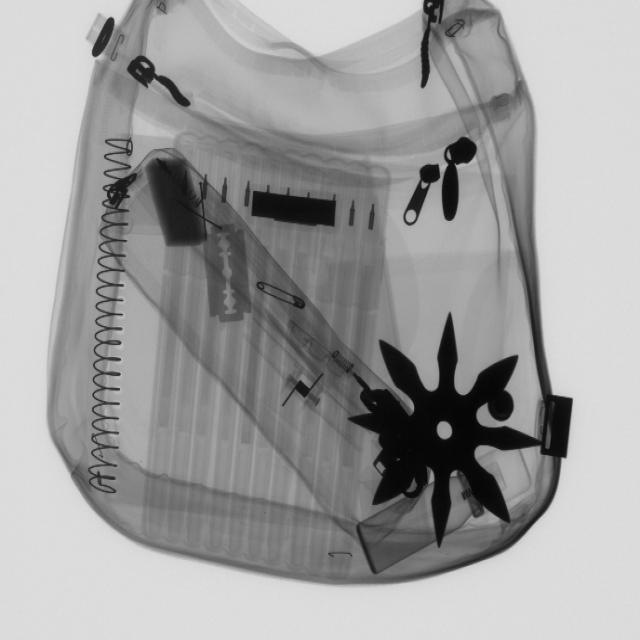BLADE: (200, 203, 260, 332)
SHURIKEN: (353, 313, 537, 551)
